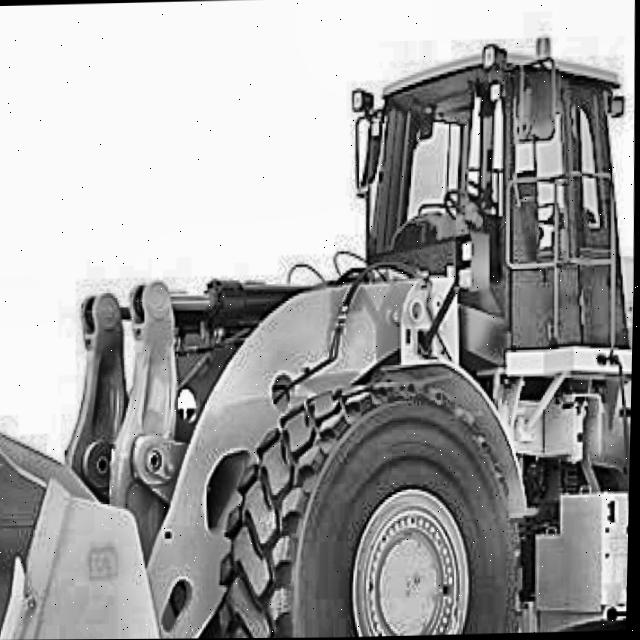buldozerpayloadergrader: (0, 16, 640, 640)
